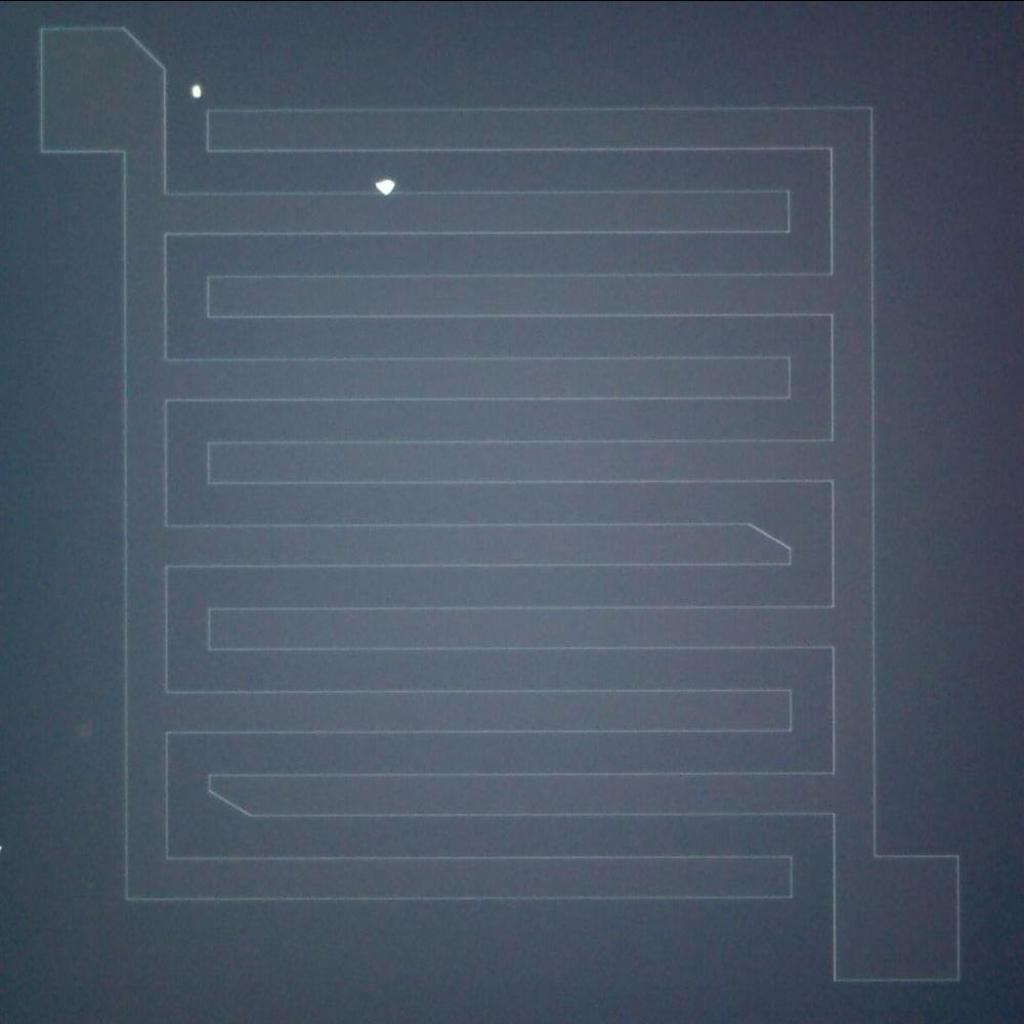edge circuit: (108, 14, 180, 86), (198, 766, 266, 833), (740, 510, 805, 574)
spot: (367, 171, 401, 201), (185, 76, 212, 107)
